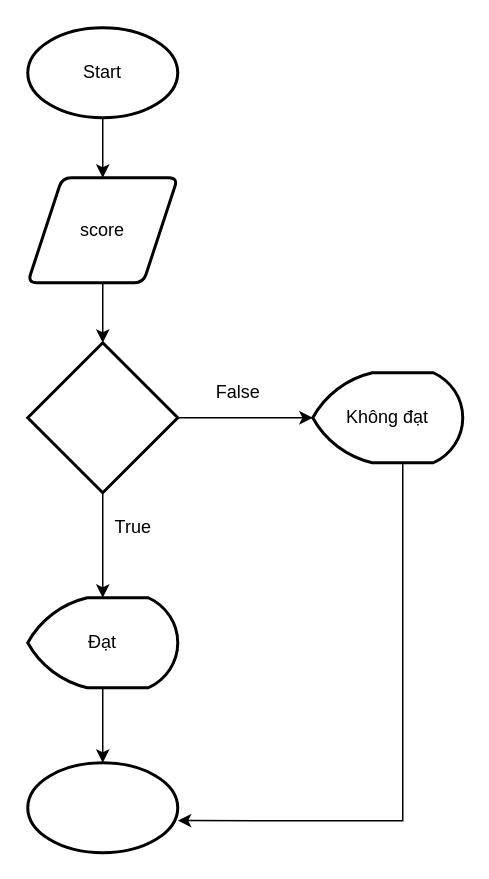
Some shapes in this 489 by 879 pixel diagram are drawn without their labels. Each missing label, with the centre of its shape:
"End." belongs at (102,807).
"score > 5" belongs at (102,417).
